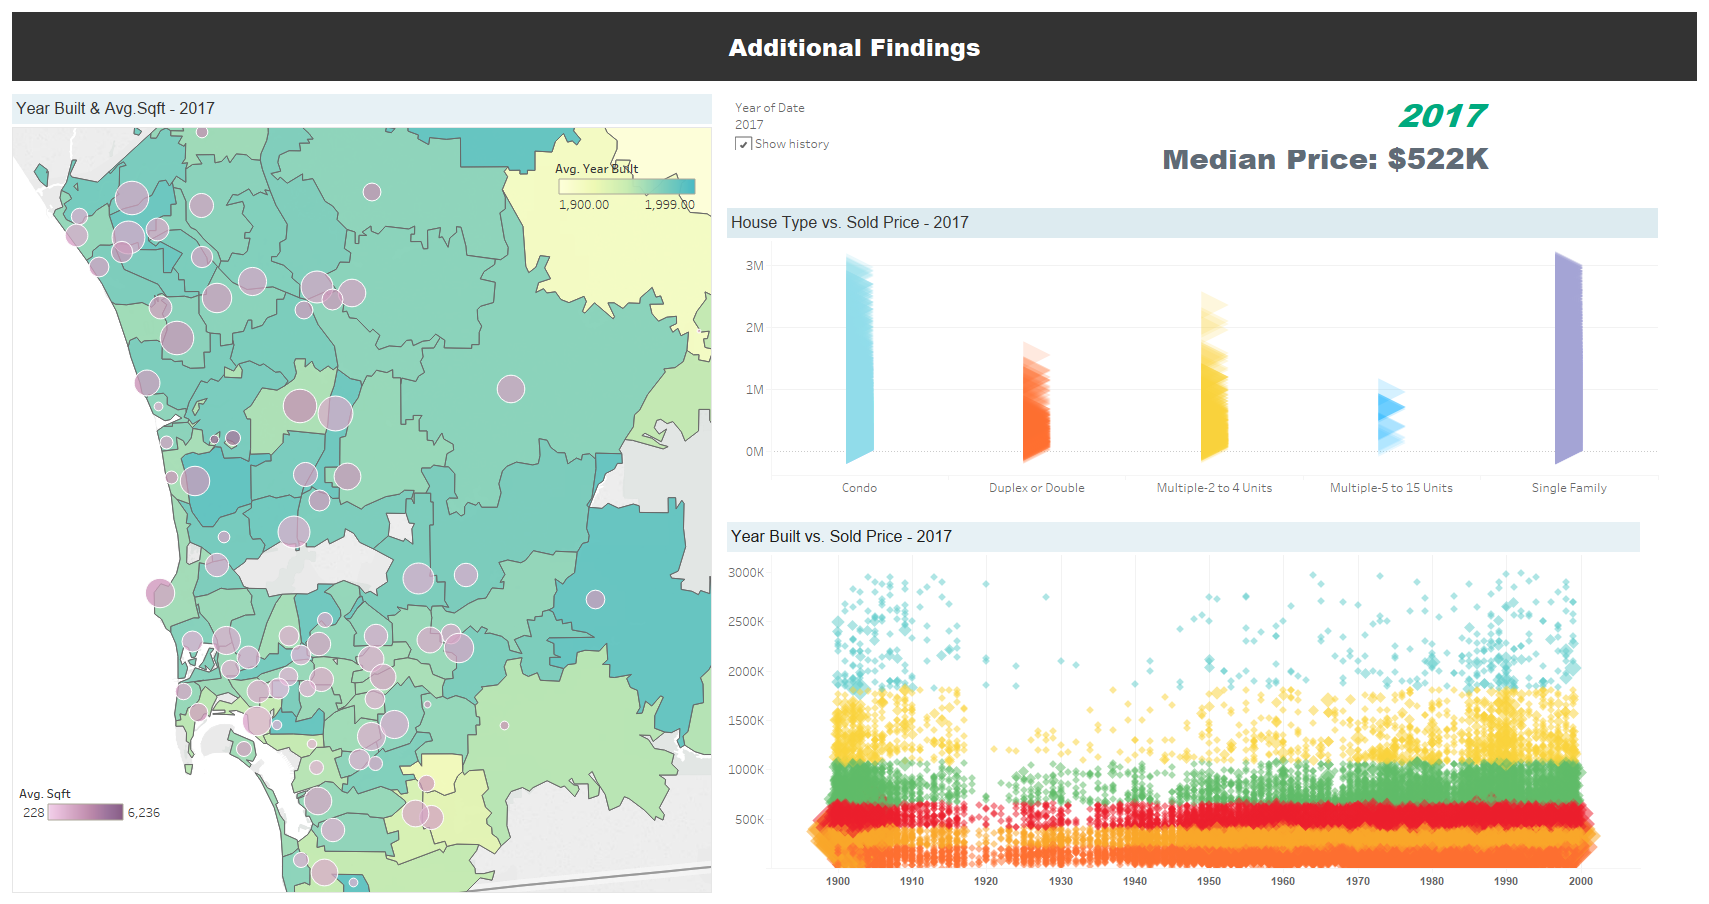

This screenshot's page, from the dashboard's own definition file:
{"tool":"tableau","page":{"name":"Dashboard 4","canvas":[1000,1000],"units":"permille","ordinal":2},"visuals":[{"type":"title","box":[4.7,8.8,990.6,85.2]},{"type":"worksheet","title":"mark","mark":"Automatic","box":[672.2,97.6,306.1,161.4]},{"type":"worksheet","title":"Sheet 23","mark":"Automatic","box":[4.8,99.9,414,893.1]},{"type":"currpage","title":"yr built animation","box":[427.9,104.5,373.1,66.2]},{"type":"legend","title":"Sheet 23","param":"[federated.1k7wuoq0t5ub6q183kvkb0c32lxh].[avg:year_built:qk]","box":[322.3,168.4,89.9,102.2]},{"type":"worksheet","title":"type animation","mark":"Shape","rows":["sqft_price"],"box":[423.1,225.3,549.2,348.4]},{"type":"worksheet","title":"yr built animation","mark":"Shape","rows":["sold_price"],"cols":["year_built"],"box":[423.1,572.6,538.9,420.4]},{"type":"legend","title":"Sheet 23","param":"[federated.1k7wuoq0t5ub6q183kvkb0c32lxh].[avg:sqft:qk]","box":[9.1,859.5,89.9,102.2]}]}

Visuals, with their boxes on the dashboard's canvas, which has no fixed pixel size, in thousandths of its width and height (x1, y1, x2, y2). These are canvas units, not pixel positions in the 1709x904 screenshot, which may show the page scaled, cropped or inside an application window:
title: (5,9,995,94)
"mark" worksheet: (672,98,978,259)
"Sheet 23" worksheet: (5,100,419,993)
"yr built animation" currpage: (428,104,801,171)
"Sheet 23" legend: (322,168,412,271)
"type animation" worksheet (Shape marks): (423,225,972,574)
"yr built animation" worksheet (Shape marks): (423,573,962,993)
"Sheet 23" legend: (9,860,99,962)
